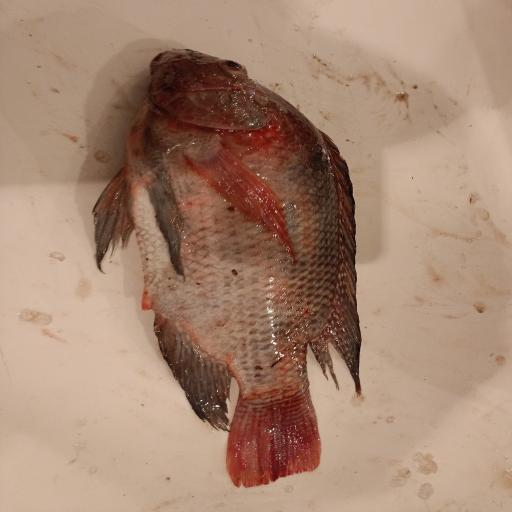Tilapia: (91, 49, 363, 488)
